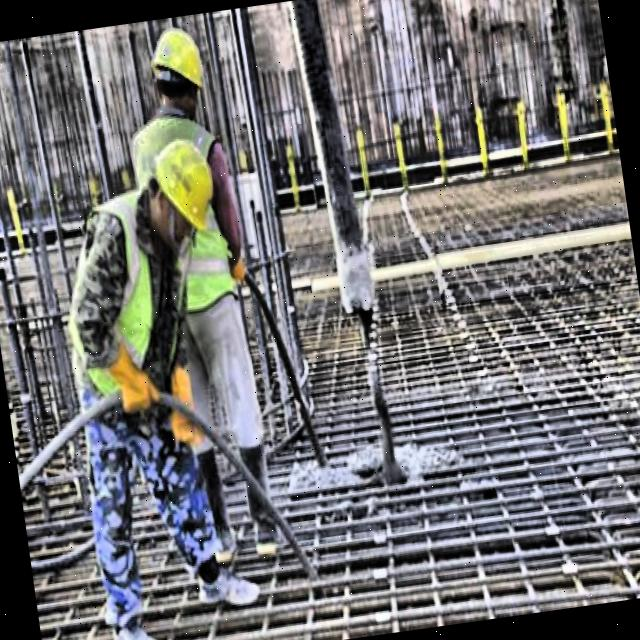helmet: (119, 109, 239, 268), (144, 21, 216, 126)
